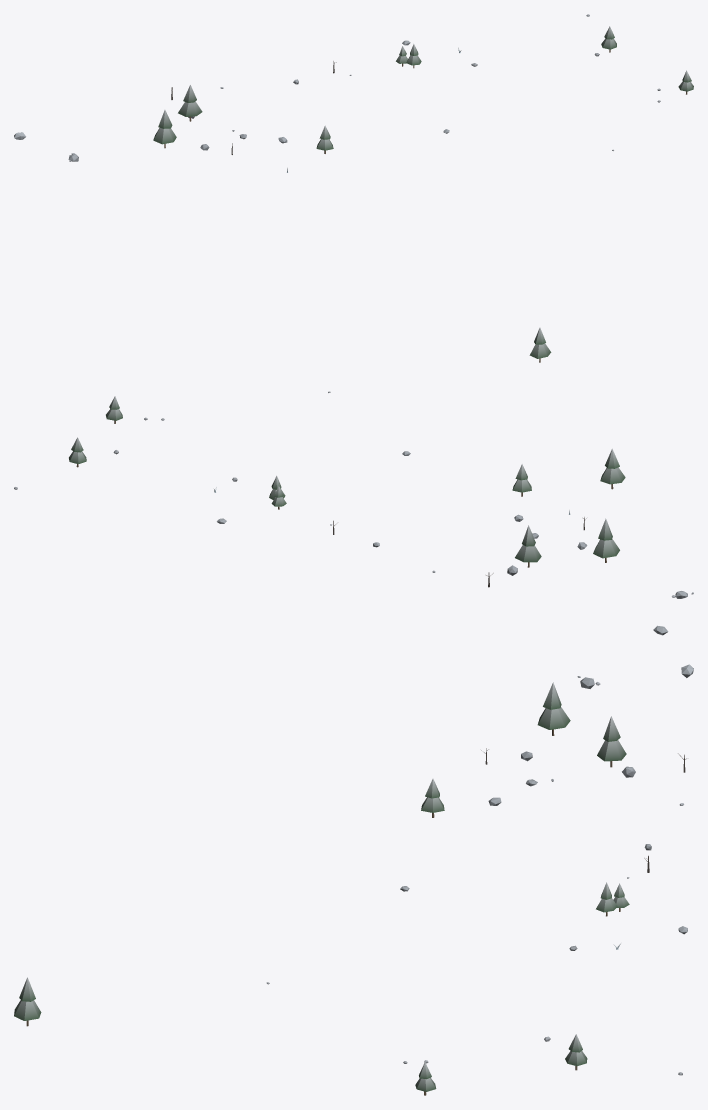
File: frost_land_scatter_c19_13_lod1.glb
The picture shows the model from 3 angles, top to bottom: view 1: azimuth 30°, elevation 25°; view 2: azimuth 150°, elevation 25°; view 3: azimuth 270°, elevation 25°; orthographic projection. The views are drawn at different scales.
Visible parts, largest first — view 1: frost_land_scatter_c19_13_lod1; view 2: frost_land_scatter_c19_13_lod1; view 3: frost_land_scatter_c19_13_lod1.
Boxes of the visible parts, box(x1,y1,x2,y2) form: frost_land_scatter_c19_13_lod1: box(14, 14, 693, 362); frost_land_scatter_c19_13_lod1: box(14, 391, 693, 635); frost_land_scatter_c19_13_lod1: box(14, 664, 693, 1095).
Bounding box in the file's own units: 255 × 66.11 × 186.
